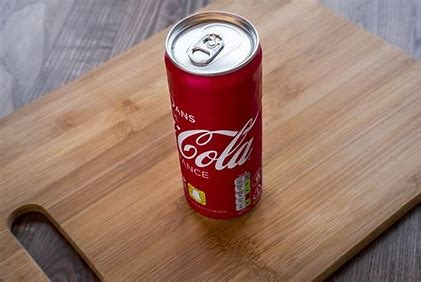metal: (163, 10, 264, 221)
